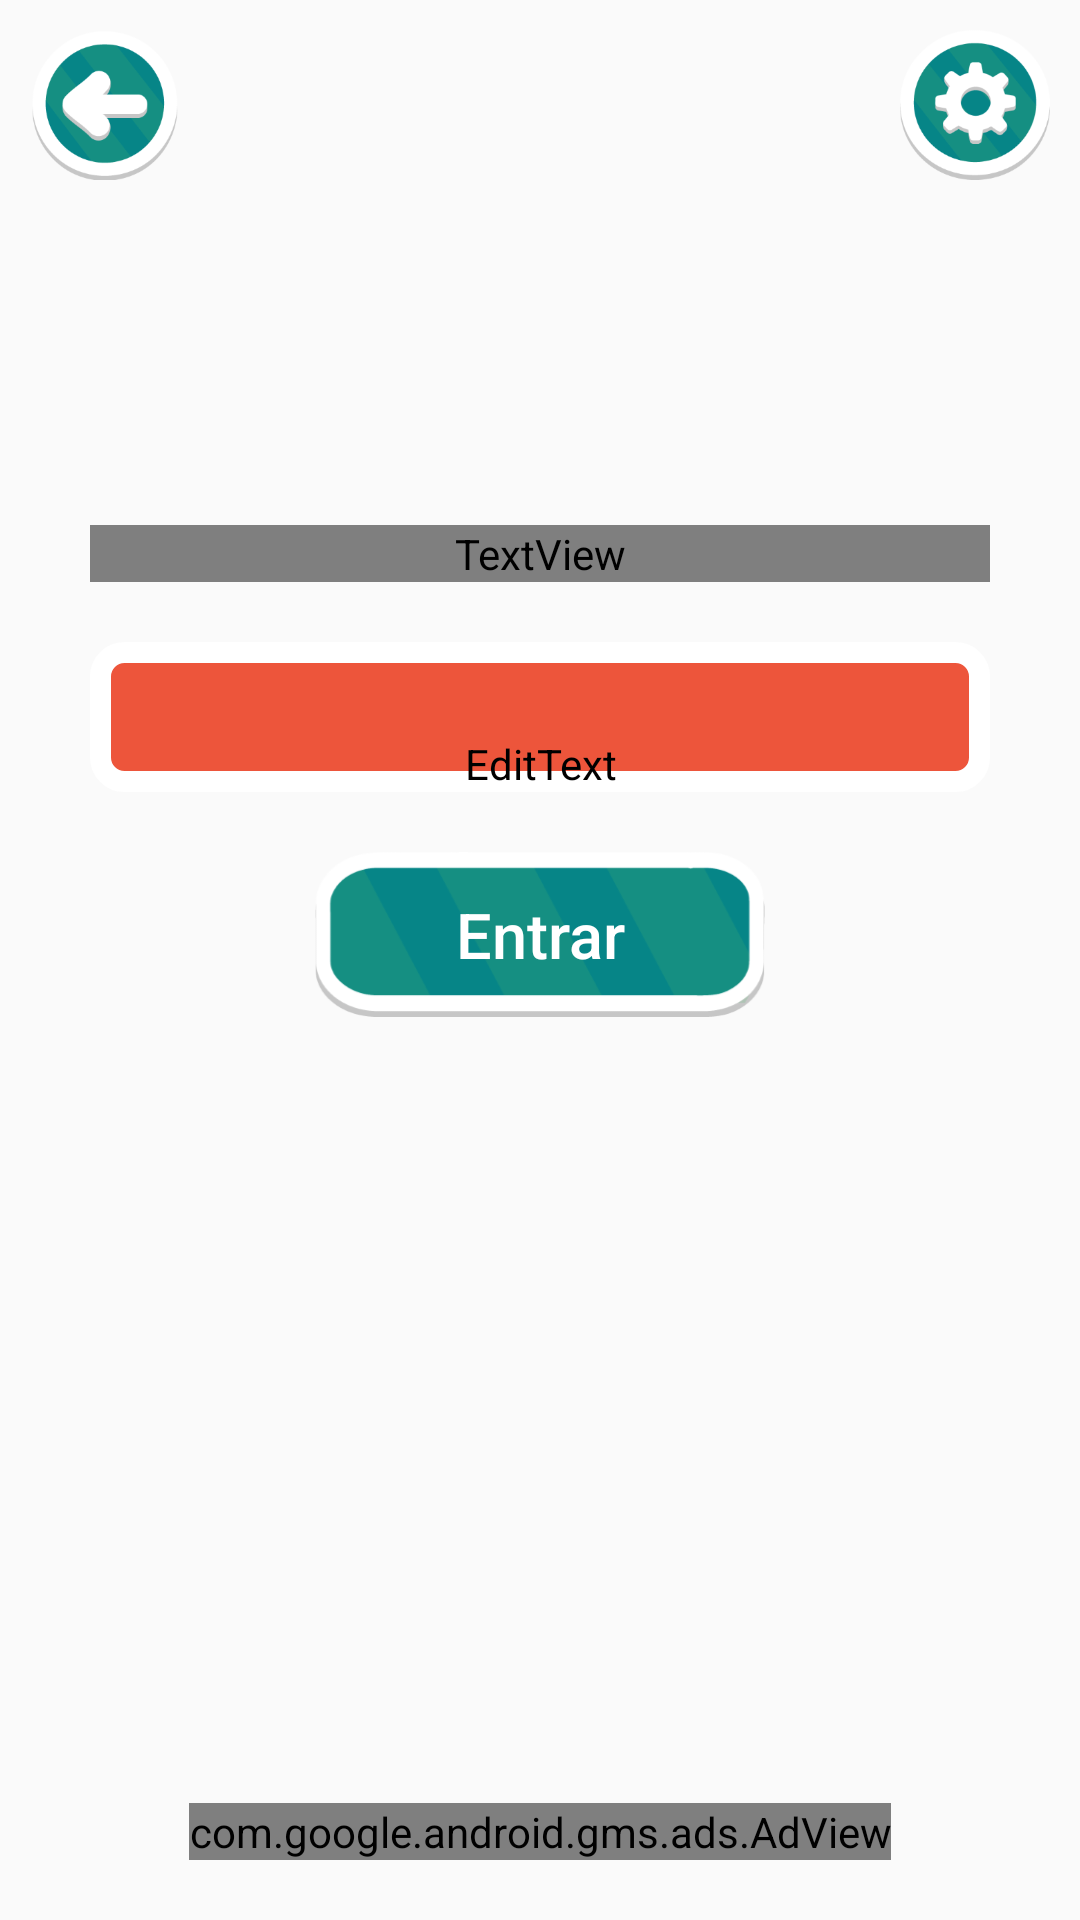

Where icons sit on this 1080w x 1920h app screen, as (x1, y1, x2, y2):
back: (33, 44, 177, 180)
options: (901, 43, 1050, 180)
